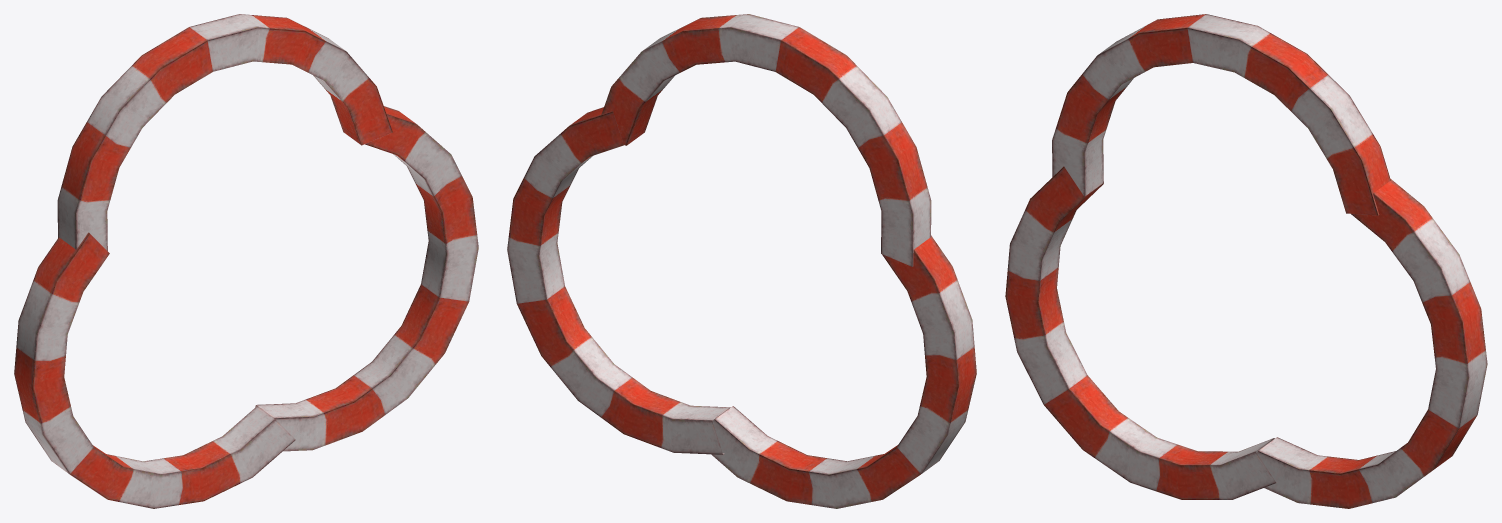
The model's file is propHurdles Red.fbx.
3 views of the same model, side by side, from view 1: azimuth 30°, elevation 25°; view 2: azimuth 150°, elevation 25°; view 3: azimuth 330°, elevation 25° (orthographic). The views are drawn at different scales.
Visible parts, largest first — view 1: drift_entering, drift_entering 2, drift_entering 1; view 2: drift_entering, drift_entering 1, drift_entering 2; view 3: drift_entering, drift_entering 2, drift_entering 1.
Part boxes in pixels (x1,y1,x2,y2): drift_entering: (57, 14, 392, 250); drift_entering 2: (14, 232, 295, 508); drift_entering 1: (255, 106, 478, 451); drift_entering: (601, 14, 931, 266); drift_entering 1: (507, 107, 730, 454); drift_entering 2: (711, 235, 976, 508); drift_entering: (1052, 14, 1390, 215); drift_entering 2: (1005, 166, 1277, 499); drift_entering 1: (1257, 179, 1487, 508).
Bounding box in the file's own units: 4439 × 4352 × 347.
1 material, 1 textured.
